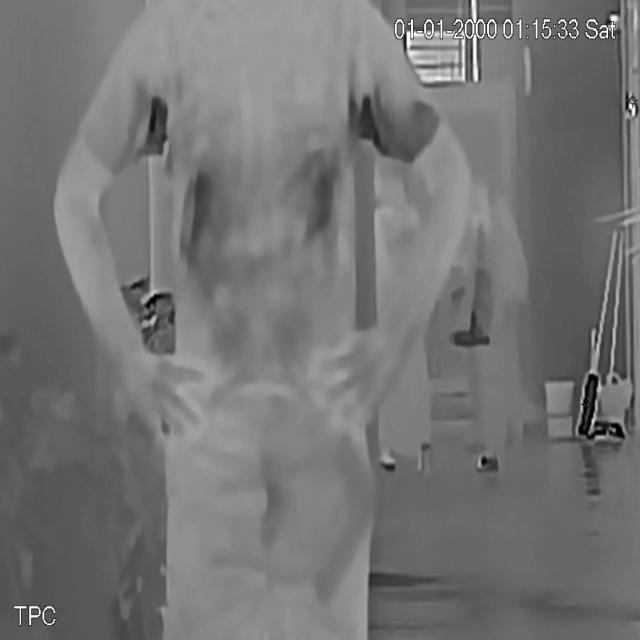Weapon: (308, 445, 384, 604)
